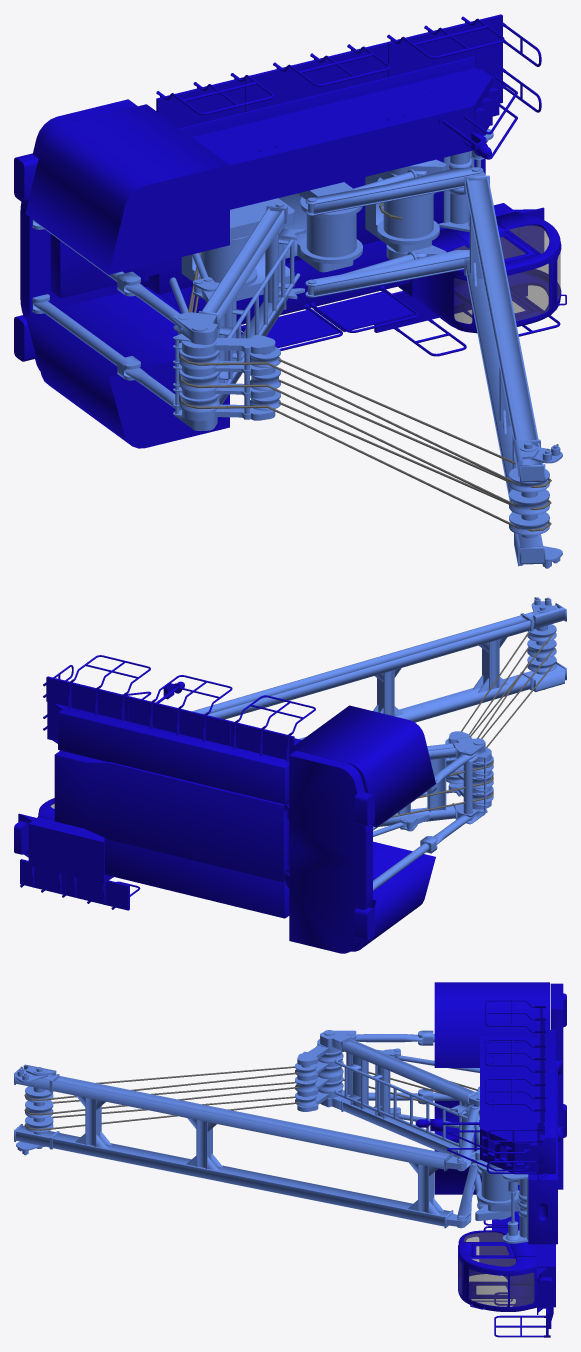
Rendered from top_and_cabin.glb.
The picture shows the model from 3 angles, top to bottom: view 1: azimuth 30°, elevation 25°; view 2: azimuth 150°, elevation 25°; view 3: azimuth 270°, elevation 25°; orthographic projection. The views are drawn at different scales.
Parts seen in each view (by area): view 1: Object_14; view 2: Object_14; view 3: Object_14.
Part boxes in pixels (x1,y1,x2,y2): Object_14: [14, 14, 566, 568]; Object_14: [14, 597, 566, 953]; Object_14: [14, 982, 566, 1337].
Bounding box in the file's own units: 8.87 × 5.07 × 11.91.
